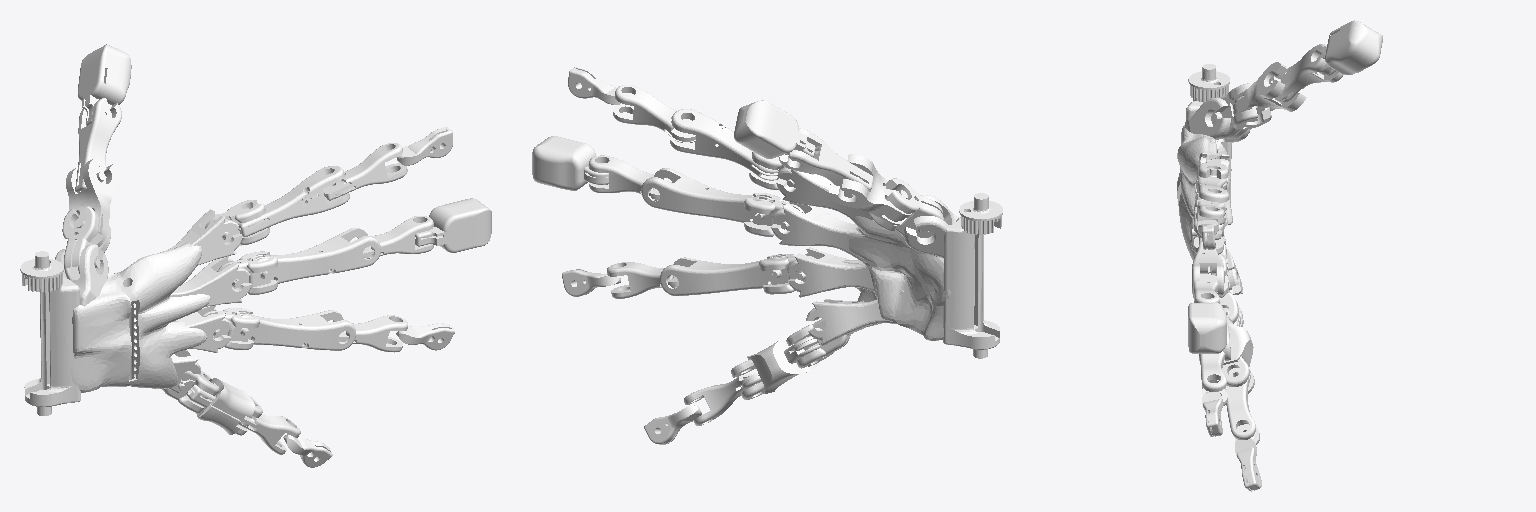
--- Facts derived from the render (not from the file) ---
The picture shows the robot from 3 angles, left to right: view 1: azimuth 30°, elevation 25°; view 2: azimuth 150°, elevation 25°; view 3: azimuth 270°, elevation 25°; orthographic projection.
Robot: converted_robot — 55 links, 54 joints (20 revolute, 34 fixed); root link world; default pose: every joint at zero.
Visible links, largest first — view 1: palm, middle_pp, ring_pp, middle_dp, index_pp, thumb_dp, thumb_pp, pinky_pp, thumb_mp, index_mp, thumb_base, middle_mp (+9 smaller); view 2: palm, middle_pp, ring_pp, thumb_dp, middle_dp, index_pp, pinky_pp, thumb_pp, thumb_mp, index_mp, thumb_base, middle_mp (+9 smaller); view 3: palm, thumb_dp, middle_dp, thumb_pp, thumb_mp, pinky_pp, pinky_mp, thumb_base, ring_mp, middle_pp, pinky_dp, index_pp (+3 smaller).
Link boxes in pixels (x1,y1,x2,y2): palm: (20, 209, 251, 415); middle_pp: (249, 228, 380, 287); ring_pp: (228, 310, 355, 350); middle_dp: (415, 198, 491, 252); index_pp: (238, 166, 349, 236); thumb_dp: (78, 44, 131, 125); thumb_pp: (66, 157, 119, 246); pinky_pp: (186, 378, 262, 435); thumb_mp: (75, 98, 121, 192); index_mp: (323, 143, 407, 200); thumb_base: (62, 206, 110, 280); middle_mp: (363, 216, 433, 258); palm: (771, 167, 1002, 358); middle_pp: (641, 168, 773, 225); ring_pp: (660, 254, 789, 295); thumb_dp: (734, 100, 815, 158); middle_dp: (532, 136, 608, 190); index_pp: (670, 109, 778, 180); pinky_pp: (731, 333, 819, 399); thumb_pp: (828, 154, 911, 224); thumb_mp: (779, 128, 873, 197); index_mp: (613, 85, 695, 142); thumb_base: (869, 178, 943, 237); middle_mp: (589, 155, 672, 200); palm: (1177, 64, 1250, 294); thumb_dp: (1319, 20, 1382, 75); middle_dp: (1188, 301, 1226, 353); thumb_pp: (1231, 62, 1306, 121); thumb_mp: (1269, 44, 1343, 102); pinky_pp: (1222, 308, 1254, 393); pinky_mp: (1225, 368, 1259, 444); thumb_base: (1211, 83, 1271, 138); ring_mp: (1200, 351, 1227, 405); middle_pp: (1192, 229, 1224, 295); pinky_dp: (1235, 438, 1261, 491); index_pp: (1196, 168, 1228, 224).
Bounding box of the posed robot: 0.2196 × 0.0894 × 0.1898 m (x, y, z).
21 mesh visuals loaded from 21 distinct referenced files (21 binary STL).

URDF robot description (converted_robot):
<?xml version="1.0" ?>
<robot name="converted_robot">
   <link name="world">
      <inertial>
         <origin xyz="0.0 0.0 0.0" rpy="0.0 0.0 0.0"/>
         <mass value="0.0"/>
         <inertia ixx="0.0" iyy="0.0" izz="0.0" ixy="0" ixz="0" iyz="0"/>
      </inertial>
   </link>
   <link name="root">
      <inertial>
         <origin xyz="0.0 0.0 0.0" rpy="0.0 0.0 0.0"/>
         <mass value="0.0"/>
         <inertia ixx="0.0" iyy="0.0" izz="0.0" ixy="0" ixz="0" iyz="0"/>
      </inertial>
   </link>
   <link name="world2root_fixed_jointbody">
      <inertial>
         <origin xyz="0.0 0.0 0.0" rpy="0.0 0.0 0.0"/>
         <mass value="0.001"/>
         <inertia ixx="1e-09" iyy="1e-09" izz="1e-09" ixy="0" ixz="0" iyz="0"/>
      </inertial>
   </link>
   <joint type="fixed" name="world2root_fixed">
      <parent link="world"/>
      <child link="world2root_fixed_jointbody"/>
      <origin xyz="0.0 0.0 0.0" rpy="0.0 0.0 0.0"/>
   </joint>
   <joint type="fixed" name="world2root_fixed_offset">
      <parent link="world2root_fixed_jointbody"/>
      <child link="root"/>
      <origin xyz="-0.0 -0.0 -0.0" rpy="0.0 0.0 0.0"/>
   </joint>
   <link name="palm">
      <inertial>
         <origin xyz="0.0031931161538907675 -0.0006744956817974197 -0.015141641629351442" rpy="0.11369803949052038 0.0015109688649919129 1.5487764199118472"/>
         <mass value="0.15922386065672636"/>
         <inertia ixx="0.00012041487596921829" iyy="8.59196043876551e-05" izz="4.1572032560976865e-05" ixy="0" ixz="0" iyz="0"/>
      </inertial>
      <visual name="palm_tower">
         <origin xyz="0.0031931161538907675 -0.0006744956817974197 -0.015141641629351442" rpy="0.11369803949052038 0.001510968864992135 1.5487764199118472"/>
         <geometry>
            <mesh filename="package://viz/models/orca1_hand/urdf/converted_palm_tower.stl"/>
         </geometry>
         <material name="white"/>
      </visual>
   </link>
   <link name="root2palm_fixed_jointbody">
      <inertial>
         <origin xyz="0.0 0.0 0.0" rpy="0.0 0.0 0.0"/>
         <mass value="0.001"/>
         <inertia ixx="1e-09" iyy="1e-09" izz="1e-09" ixy="0" ixz="0" iyz="0"/>
      </inertial>
   </link>
   <joint type="fixed" name="root2palm_fixed">
      <parent link="root"/>
      <child link="root2palm_fixed_jointbody"/>
      <origin xyz="0.193999986406645 -3.686916491009634e-05 0.00199999999999996" rpy="0.0007373833650254783 1.5707963267948966 0.0"/>
   </joint>
   <joint type="fixed" name="root2palm_fixed_offset">
      <parent link="root2palm_fixed_jointbody"/>
      <child link="palm"/>
      <origin xyz="-0.0 -0.0 -0.0" rpy="0.0 0.0 0.0"/>
   </joint>
   <link name="index_um">
      <inertial>
         <origin xyz="0.006732763304155957 4.001088863436687e-09 -2.0258619702217643e-05" rpy="-3.131684616200393 -1.561854856603541 -0.009908433449917098"/>
         <mass value="0.002607186033198995"/>
         <inertia ixx="1.3807074528604164e-07" iyy="1.1778104249469416e-07" izz="6.49217043247213e-08" ixy="0" ixz="0" iyz="0"/>
      </inertial>
      <visual name="index_um">
         <origin xyz="0.006732763304155957 4.001088863436687e-09 -2.0258619702217643e-05" rpy="-3.131684616200393 -1.561854856603541 -0.009908433449916876"/>
         <geometry>
            <mesh filename="package://viz/models/orca1_hand/urdf/converted_index_um.stl"/>
         </geometry>
         <material name="white"/>
      </visual>
   </link>
   <link name="index_abd_jointbody">
      <inertial>
         <origin xyz="0.0 0.0 0.0" rpy="0.0 0.0 0.0"/>
         <mass value="0.001"/>
         <inertia ixx="1e-09" iyy="1e-09" izz="1e-09" ixy="0" ixz="0" iyz="0"/>
      </inertial>
   </link>
   <joint type="revolute" name="index_abd">
      <parent link="palm"/>
      <child link="index_abd_jointbody"/>
      <origin xyz="-0.022026898291690793 0.0015684105070722376 0.035558225043043304" rpy="1.657989451174792 1.3961154673834115 -7.447055134812697e-05"/>
      <axis xyz="-1.80855330711438e-13 -2.220446049250313e-16 0.9999999999999967"/>
      <limit lower="-0.4363323129985824" upper="0.6108652381980153" effort="100" velocity="100"/>
   </joint>
   <joint type="fixed" name="index_abd_offset">
      <parent link="index_abd_jointbody"/>
      <child link="index_um"/>
      <origin xyz="-0.014399999999999979 -1.1275702593849246e-17 -4.7704895589362195e-18" rpy="0.0 0.0 0.0"/>
   </joint>
   <link name="index_pp">
      <inertial>
         <origin xyz="0.001028909009164022 -4.063769783948308e-06 0.02054690935172239" rpy="0.0004528001968630863 -0.017765403380045175 -0.030452017041297512"/>
         <mass value="0.01253208205763138"/>
         <inertia ixx="1.693790150208706e-06" iyy="1.687388366681519e-06" izz="3.6847130608302664e-07" ixy="0" ixz="0" iyz="0"/>
      </inertial>
      <visual name="index_pp">
         <origin xyz="0.001028909009164022 -4.063769783948308e-06 0.02054690935172239" rpy="0.0004528001968630863 -0.017765403380045175 -0.03045201704129752"/>
         <geometry>
            <mesh filename="package://viz/models/orca1_hand/urdf/converted_index_pp.stl"/>
         </geometry>
         <material name="white"/>
      </visual>
   </link>
   <link name="root2index_pp_jointbody">
      <inertial>
         <origin xyz="0.0 0.0 0.0" rpy="0.0 0.0 0.0"/>
         <mass value="0.001"/>
         <inertia ixx="1e-09" iyy="1e-09" izz="1e-09" ixy="0" ixz="0" iyz="0"/>
      </inertial>
   </link>
   <joint type="revolute" name="root2index_pp">
      <parent link="index_um"/>
      <child link="root2index_pp_jointbody"/>
      <origin xyz="-3.726525911802163e-14 1.5826592868386048e-13 -1.3897728001093473e-14" rpy="3.141592653571369 -1.568914097743692 -3.1415926535734324"/>
      <axis xyz="3.175237850427948e-14 -1.0000000000000018 -2.0646956366832114e-12"/>
      <limit lower="-0.17453292519943295" upper="2.007128639793479" effort="100" velocity="100"/>
   </joint>
   <joint type="fixed" name="root2index_pp_offset">
      <parent link="root2index_pp_jointbody"/>
      <child link="index_pp"/>
      <origin xyz="9.357535447968366e-19 9.360525909273759e-18 1.2460153634354755e-17" rpy="0.0 0.0 0.0"/>
   </joint>
   <link name="index_mp">
      <inertial>
         <origin xyz="0.0014457760100068154 8.307526209729058e-05 0.014984285891448386" rpy="0.030434030316509056 -0.009961283507679886 0.10995570955517174"/>
         <mass value="0.007256911934241935"/>
         <inertia ixx="4.939234421836949e-07" iyy="4.903790475873879e-07" izz="1.9645010163470517e-07" ixy="0" ixz="0" iyz="0"/>
      </inertial>
      <visual name="index_mp">
         <origin xyz="0.0014457760100068154 8.307526209729058e-05 0.014984285891448386" rpy="0.030434030316509056 -0.009961283507679886 0.10995570955517174"/>
         <geometry>
            <mesh filename="package://viz/models/orca1_hand/urdf/converted_index_mp.stl"/>
         </geometry>
         <material name="white"/>
      </visual>
   </link>
   <link name="index_pp2mp_jointbody">
      <inertial>
         <origin xyz="0.0 0.0 0.0" rpy="0.0 0.0 0.0"/>
         <mass value="0.001"/>
         <inertia ixx="1e-09" iyy="1e-09" izz="1e-09" ixy="0" ixz="0" iyz="0"/>
      </inertial>
   </link>
   <joint type="revolute" name="index_pp2mp">
      <parent link="index_pp"/>
      <child link="index_pp2mp_jointbody"/>
      <origin xyz="-4.092895317840004e-17 -2.263553056912248e-17 0.039999999999999904" rpy="-1.387778780781445e-17 -2.220446049250313e-16 2.311115933264683e-33"/>
      <axis xyz="1.0547118733938987e-15 -0.9999999999999989 -9.020562075079397e-16"/>
      <limit lower="0.0" upper="2.0943951023931953" effort="100" velocity="100"/>
   </joint>
   <joint type="fixed" name="index_pp2mp_offset">
      <parent link="index_pp2mp_jointbody"/>
      <child link="index_mp"/>
      <origin xyz="1.9461750163187066e-17 3.195966925249782e-17 5.1027793401258624e-17" rpy="0.0 0.0 0.0"/>
   </joint>
   <link name="index_dp">
      <inertial>
         <origin xyz="0.010962775970379684 -0.0009207287499492076 0.007029609248376971" rpy="0.0038044439296488486 0.009595151767842092 1.742992635465892"/>
         <mass value="0.009142007854382036"/>
         <inertia ixx="7.030009842186787e-07" iyy="6.96709959144247e-07" izz="2.9942656232517023e-07" ixy="0" ixz="0" iyz="0"/>
      </inertial>
      <visual name="index_dp">
         <origin xyz="0.010962775970379684 -0.0009207287499492076 0.007029609248376971" rpy="0.0038044439296489596 0.009595151767842092 1.7429926354658922"/>
         <geometry>
            <mesh filename="package://viz/models/orca1_hand/urdf/converted_index_dp.stl"/>
         </geometry>
         <material name="white"/>
      </visual>
   </link>
   <link name="index_mp2dp_jointbody">
      <inertial>
         <origin xyz="0.0 0.0 0.0" rpy="0.0 0.0 0.0"/>
         <mass value="0.001"/>
         <inertia ixx="1e-09" iyy="1e-09" izz="1e-09" ixy="0" ixz="0" iyz="0"/>
      </inertial>
   </link>
   <joint type="revolute" name="index_mp2dp">
      <parent link="index_mp"/>
      <child link="index_mp2dp_jointbody"/>
      <origin xyz="0.0009999999999999601 -4.683753385137379e-17 0.028000000000000004" rpy="-6.661338147750939e-16 8.881784197001252e-16 1.5707963267948974"/>
      <axis xyz="-0.9999999999999998 -1.1796119636642288e-16 -1.946657895643411e-15"/>
      <limit lower="0.0" upper="1.3089969389957472" effort="100" velocity="100"/>
   </joint>
   <joint type="fixed" name="index_mp2dp_offset">
      <parent link="index_mp2dp_jointbody"/>
      <child link="index_dp"/>
      <origin xyz="-0.01099999999999995 7.281470469246501e-06 0.009007281470469294" rpy="0.0 0.0 0.0"/>
   </joint>
   <link name="index_fingertip">
      <inertial>
         <origin xyz="0.0 0.02 -0.001306" rpy="0.0 0.0 0.0"/>
         <mass value="0.0"/>
         <inertia ixx="0.0" iyy="0.0" izz="0.0" ixy="0" ixz="0" iyz="0"/>
      </inertial>
   </link>
   <link name="index_dp2index_fingertip_fixed_jointbody">
      <inertial>
         <origin xyz="0.0 0.0 0.0" rpy="0.0 0.0 0.0"/>
         <mass value="0.001"/>
         <inertia ixx="1e-09" iyy="1e-09" izz="1e-09" ixy="0" ixz="0" iyz="0"/>
      </inertial>
   </link>
   <joint type="fixed" name="index_dp2index_fingertip_fixed">
      <parent link="index_dp"/>
      <child link="index_dp2index_fingertip_fixed_jointbody"/>
      <origin xyz="0.0 0.02 -0.001306" rpy="0.0 0.0 0.0"/>
   </joint>
   <joint type="fixed" name="index_dp2index_fingertip_fixed_offset">
      <parent link="index_dp2index_fingertip_fixed_jointbody"/>
      <child link="index_fingertip"/>
      <origin xyz="-0.0 -0.0 -0.0" rpy="0.0 0.0 0.0"/>
   </joint>
   <link name="pinky_um">
      <inertial>
         <origin xyz="0.006732763304155957 4.001088863436687e-09 -2.0258619702217643e-05" rpy="-3.131684616200393 -1.561854856603541 -0.009908433449917098"/>
         <mass value="0.002607186033198995"/>
         <inertia ixx="1.3807074528604164e-07" iyy="1.1778104249469416e-07" izz="6.49217043247213e-08" ixy="0" ixz="0" iyz="0"/>
      </inertial>
      <visual name="pinky_um">
         <origin xyz="0.006732763304155957 4.001088863436687e-09 -2.0258619702217643e-05" rpy="-3.131684616200393 -1.561854856603541 -0.009908433449916876"/>
         <geometry>
            <mesh filename="package://viz/models/orca1_hand/urdf/converted_pinky_um.stl"/>
         </geometry>
         <material name="white"/>
      </visual>
   </link>
   <link name="pinky_abd_jointbody">
      <inertial>
         <origin xyz="0.0 0.0 0.0" rpy="0.0 0.0 0.0"/>
         <mass value="0.001"/>
         <inertia ixx="1e-09" iyy="1e-09" izz="1e-09" ixy="0" ixz="0" iyz="0"/>
      </inertial>
   </link>
   <joint type="revolute" name="pinky_abd">
      <parent link="palm"/>
      <child link="pinky_abd_jointbody"/>
      <origin xyz="0.04123255613565277 0.005128234212297354 0.015805277968103645" rpy="-1.5799161189708797 0.9071946146015462 -2.8781819803477346"/>
      <axis xyz="-1.942890293094024e-16 6.661338147750939e-16 -1.0000000000000004"/>
      <limit lower="-0.6108652381980153" upper="0.4363323129985824" effort="100" velocity="100"/>
   </joint>
   <joint type="fixed" name="pinky_abd_offset">
      <parent link="pinky_abd_jointbody"/>
      <child link="pinky_um"/>
      <origin xyz="-0.014400000000000012 2.211772431870429e-17 -1.5178830414797062e-17" rpy="0.0 0.0 0.0"/>
   </joint>
   <link name="pinky_pp">
      <inertial>
         <origin xyz="0.0011081239410495802 -6.835791393050442e-07 0.016046375623555865" rpy="0.0013778191143609397 -0.0356616612010936 -0.04982590931331974"/>
         <mass value="0.009193689280540233"/>
         <inertia ixx="8.415561519046092e-07" iyy="8.352213456647945e-07" izz="2.602923288447009e-07" ixy="0" ixz="0" iyz="0"/>
      </inertial>
      <visual name="pinky_pp">
         <origin xyz="0.0011081239410495802 -6.835791393050442e-07 0.016046375623555865" rpy="0.0013778191143609397 -0.0356616612010936 -0.04982590931331974"/>
         <geometry>
            <mesh filename="package://viz/models/orca1_hand/urdf/converted_pinky_pp.stl"/>
         </geometry>
         <material name="white"/>
      </visual>
   </link>
   <link name="root2pinky_pp_jointbody">
      <inertial>
         <origin xyz="0.0 0.0 0.0" rpy="0.0 0.0 0.0"/>
         <mass value="0.001"/>
         <inertia ixx="1e-09" iyy="1e-09" izz="1e-09" ixy="0" ixz="0" iyz="0"/>
      </inertial>
   </link>
   <joint type="revolute" name="root2pinky_pp">
      <parent link="pinky_um"/>
      <child link="root2pinky_pp_jointbody"/>
      <origin xyz="3.525016089636266e-17 -3.1056381288997515e-19 2.7390067716395695e-17" rpy="3.141592653589439 -1.5692446522906773 -3.141592653589439"/>
      <axis xyz="-3.885780586188048e-16 -1.0000000000000004 -2.636779683484747e-16"/>
      <limit lower="-0.17453292519943295" upper="2.007128639793479" effort="100" velocity="100"/>
   </joint>
   <joint type="fixed" name="root2pinky_pp_offset">
      <parent link="root2pinky_pp_jointbody"/>
      <child link="pinky_pp"/>
      <origin xyz="-3.833184058085544e-18 7.922763782835389e-18 1.4973823299787632e-17" rpy="0.0 0.0 0.0"/>
   </joint>
   <link name="pinky_mp">
      <inertial>
         <origin xyz="0.0014457760100068154 8.307526209729058e-05 0.014984285891448386" rpy="0.030434030316509056 -0.009961283507679886 0.10995570955517174"/>
         <mass value="0.007256911934241935"/>
         <inertia ixx="4.939234421836949e-07" iyy="4.903790475873879e-07" izz="1.9645010163470517e-07" ixy="0" ixz="0" iyz="0"/>
      </inertial>
      <visual name="pinky_mp">
         <origin xyz="0.0014457760100068154 8.307526209729058e-05 0.014984285891448386" rpy="0.030434030316509056 -0.009961283507679886 0.10995570955517174"/>
         <geometry>
            <mesh filename="package://viz/models/orca1_hand/urdf/converted_pinky_mp.stl"/>
         </geometry>
         <material name="white"/>
      </visual>
   </link>
   <link name="pinky_pp2mp_jointbody">
      <inertial>
         <origin xyz="0.0 0.0 0.0" rpy="0.0 0.0 0.0"/>
         <mass value="0.001"/>
         <inertia ixx="1e-09" iyy="1e-09" izz="1e-09" ixy="0" ixz="0" iyz="0"/>
      </inertial>
   </link>
   <joint type="revolute" name="pinky_pp2mp">
      <parent link="pinky_pp"/>
      <child link="pinky_pp2mp_jointbody"/>
      <origin xyz="-2.02538279309526e-17 -3.2474578016063654e-17 0.03000000000000008" rpy="-5.551115123125783e-17 0.0 0.0"/>
      <axis xyz="-4.440892098500626e-16 -1.0000000000000004 -8.326672684688674e-17"/>
      <limit lower="0.0" upper="2.0943951023931953" effort="100" velocity="100"/>
   </joint>
   <joint type="fixed" name="pinky_pp2mp_offset">
      <parent link="pinky_pp2mp_jointbody"/>
      <child link="pinky_mp"/>
      <origin xyz="1.171869695207721e-18 -8.725104538385514e-18 -2.4424879789821522e-17" rpy="0.0 0.0 0.0"/>
   </joint>
   <link name="pinky_dp">
      <inertial>
         <origin xyz="0.010962775970379684 -0.0009207287499492076 0.007029609248376971" rpy="0.0038044439296488486 0.009595151767842092 1.742992635465892"/>
         <mass value="0.009142007854382036"/>
         <inertia ixx="7.030009842186787e-07" iyy="6.96709959144247e-07" izz="2.9942656232517023e-07" ixy="0" ixz="0" iyz="0"/>
      </inertial>
      <visual name="pinky_dp">
         <origin xyz="0.010962775970379684 -0.0009207287499492076 0.007029609248376971" rpy="0.0038044439296489596 0.009595151767842092 1.7429926354658922"/>
         <geometry>
            <mesh filename="package://viz/models/orca1_hand/urdf/converted_pinky_dp.stl"/>
         </geometry>
         <material name="white"/>
      </visual>
   </link>
   <link name="pinky_mp2dp_jointbody">
      <inertial>
         <origin xyz="0.0 0.0 0.0" rpy="0.0 0.0 0.0"/>
         <mass value="0.001"/>
         <inertia ixx="1e-09" iyy="1e-09" izz="1e-09" ixy="0" ixz="0" iyz="0"/>
      </inertial>
   </link>
   <joint type="revolute" name="pinky_mp2dp">
      <parent link="pinky_mp"/>
      <child link="pinky_mp2dp_jointbody"/>
      <origin xyz="0.0010000000000103548 -1.148039996401451e-14 0.02799999999999978" rpy="1.7696955012524995e-13 -1.5853984791647235e-13 1.5707963267948981"/>
      <axis xyz="-0.9999999999999996 2.3037127760972e-15 1.584097436557741e-13"/>
      <limit lower="0.0" upper="1.3089969389957472" effort="100" velocity="100"/>
   </joint>
   <joint type="fixed" name="pinky_mp2dp_offset">
      <parent link="pinky_mp2dp_jointbody"/>
      <child link="pinky_dp"/>
      <origin xyz="-0.011000000000000044 7.281470469290411e-06 0.00900728147046922" rpy="0.0 0.0 0.0"/>
   </joint>
   <link name="pinky_fingertip">
      <inertial>
         <origin xyz="0.0 0.02 -0.001306" rpy="0.0 0.0 0.0"/>
         <mass value="0.0"/>
         <inertia ixx="0.0" iyy="0.0" izz="0.0" ixy="0" ixz="0" iyz="0"/>
      </inertial>
   </link>
   <link name="pinky_dp2pinky_fingertip_fixed_jointbody">
      <inertial>
         <origin xyz="0.0 0.0 0.0" rpy="0.0 0.0 0.0"/>
         <mass value="0.001"/>
         <inertia ixx="1e-09" iyy="1e-09" izz="1e-09" ixy="0" ixz="0" iyz="0"/>
      </inertial>
   </link>
   <joint type="fixed" name="pinky_dp2pinky_fingertip_fixed">
      <parent link="pinky_dp"/>
      <child link="pinky_dp2pinky_fingertip_fixed_jointbody"/>
      <origin xyz="0.0 0.02 -0.001306" rpy="0.0 0.0 0.0"/>
   </joint>
   <joint type="fixed" name="pinky_dp2pinky_fingertip_fixed_offset">
      <parent link="pinky_dp2pinky_fingertip_fixed_jointbody"/>
      <child link="pinky_fingertip"/>
      <origin xyz="-0.0 -0.0 -0.0" rpy="0.0 0.0 0.0"/>
   </joint>
   <link name="ring_um">
      <inertial>
         <origin xyz="0.006732763304155957 4.001088863436687e-09 -2.0258619702217643e-05" rpy="-3.131684616200393 -1.561854856603541 -0.009908433449917098"/>
         <mass value="0.002607186033198995"/>
         <inertia ixx="1.3807074528604164e-07" iyy="1.1778104249469416e-07" izz="6.49217043247213e-08" ixy="0" ixz="0" iyz="0"/>
      </inertial>
      <visual name="ring_um">
         <origin xyz="0.006732763304155957 4.001088863436687e-09 -2.0258619702217643e-05" rpy="-3.131684616200393 -1.561854856603541 -0.009908433449916876"/>
         <geometry>
            <mesh filename="package://viz/models/orca1_hand/urdf/converted_ring_um.stl"/>
         </geometry>
         <material name="white"/>
      </visual>
   </link>
   <link name="ring_abd_jointbody">
      <inertial>
         <origin xyz="0.0 0.0 0.0" rpy="0.0 0.0 0.0"/>
         <mass value="0.001"/>
         <inertia ixx="1e-09" iyy="1e-09" izz="1e-09" ixy="0" ixz="0" iyz="0"/>
      </inertial>
   </link>
   <joint type="revolute" name="ring_abd">
      <parent link="palm"/>
      <child link="ring_abd_jointbody"/>
      <origin xyz="0.019694864162417412 0.0013825982229840321 0.030586364349873787" rpy="-1.5707963267948921 1.3088618425821554 -3.054326190990074"/>
      <axis xyz="-8.004708007547379e-14 -1.9984014443252818e-14 0.9999999999999978"/>
      <limit lower="-0.4363323129985824" upper="0.6108652381980153" effort="100" velocity="100"/>
   </joint>
   <joint type="fixed" name="ring_abd_offset">
      <parent link="ring_abd_jointbody"/>
      <child link="ring_um"/>
      <origin xyz="-0.014400000000000029 3.5561831257524545e-17 8.239936510889834e-18" rpy="0.0 0.0 0.0"/>
   </joint>
   <link name="ring_pp">
      <inertial>
         <origin xyz="0.0008060372442654997 -2.635575618623248e-06 0.025309358745536116" rpy="-0.01791413400350872 0.00043408652954268767 1.579449867412698"/>
         <mass value="0.015838995744240178"/>
         <inertia ixx="2.9142748363999414e-06" iyy="2.881065309255171e-06" izz="4.6634203018917616e-07" ixy="0" ixz="0" iyz="0"/>
      </inertial>
      <visual name="ring_pp">
         <origin xyz="0.0008060372442654997 -2.635575618623248e-06 0.025309358745536116" rpy="-0.01791413400350872 0.00043408652954268767 1.579449867412698"/>
         <geometry>
            <mesh filename="package://viz/models/orca1_hand/urdf/converted_ring_pp.stl"/>
         </geometry>
         <material name="white"/>
      </visual>
   </link>
   <link name="root2ring_pp_jointbody">
      <inertial>
         <origin xyz="0.0 0.0 0.0" rpy="0.0 0.0 0.0"/>
         <mass value="0.001"/>
         <inertia ixx="1e-09" iyy="1e-09" izz="1e-09" ixy="0" ixz="0" iyz="0"/>
      </inertial>
   </link>
   <joint type="revolute" name="root2ring_pp">
      <parent link="ring_um"/>
      <child link="root2ring_pp_jointbody"/>
      <origin xyz="8.76421389591046e-16 -6.591883351625457e-14 -5.609920274269105e-15" rpy="3.1415926535778085 -1.5690952335036443 -3.1415926535768572"/>
      <axis xyz="2.1538326677728037e-14 -1.0000000000000016 9.536885170469134e-13"/>
      <limit lower="-0.17453292519943295" upper="2.007128639793479" effort="100" velocity="100"/>
   </joint>
   <joint type="fixed" name="root2ring_pp_offset">
      <parent link="root2ring_pp_jointbody"/>
      <child link="ring_pp"/>
      <origin xyz="-9.795286269233676e-19 -1.4465518891423126e-19 1.4329772049885697e-17" rpy="0.0 0.0 0.0"/>
   </joint>
   <link name="ring_mp">
      <inertial>
         <origin xyz="0.0014457760100068154 8.307526209729058e-05 0.014984285891448386" rpy="0.030434030316509056 -0.009961283507679886 0.10995570955517174"/>
         <mass value="0.007256911934241935"/>
         <inertia ixx="4.939234421836949e-07" iyy="4.903790475873879e-07" izz="1.9645010163470517e-07" ixy="0" ixz="0" iyz="0"/>
      </inertial>
      <visual name="ring_mp">
         <origin xyz="0.0014457760100068154 8.307526209729058e-05 0.014984285891448386" rpy="0.030434030316509056 -0.009961283507679886 0.10995570955517174"/>
         <geometry>
            <mesh filename="package://viz/models/orca1_hand/urdf/converted_ring_mp.stl"/>
         </geometry>
         <material name="white"/>
      </visual>
   </link>
   <link name="ring_pp2mp_jointbody">
      <inertial>
         <origin xyz="0.0 0.0 0.0" rpy="0.0 0.0 0.0"/>
         <mass value="0.001"/>
         <inertia ixx="1e-09" iyy="1e-09" izz="1e-09" ixy="0" ixz="0" iyz="0"/>
      </inertial>
   </link>
   <joint type="revolute" name="ring_pp2mp">
      <parent link="ring_pp"/>
      <child link="ring_pp2mp_jointbody"/>
      <origin xyz="1.6557794334752767e-17 1.0283099349852077e-16 0.048000000000000105" rpy="-8.326672684688684e-17 4.440892098500626e-16 -4.440892098500627e-16"/>
      <axis xyz="5.551115123125783e-17 -0.9999999999999998 1.6514567491299204e-15"/>
      <limit lower="0.0" upper="2.0943951023931953" effort="100" velocity="100"/>
   </joint>
   <joint type="fixed" name="ring_pp2mp_offset">
      <parent link="ring_pp2mp_jointbody"/>
      <child link="ring_mp"/>
      <origin xyz="-2.4797730845642552e-17 -9.545841872561936e-17 -2.5561932479781495e-17" rpy="0.0 0.0 0.0"/>
   </joint>
   <link name="ring_dp">
      <inertial>
         <origin xyz="0.010962775970379684 -0.0009207287499492076 0.007029609248376971" rpy="0.0038044439296488486 0.009595151767842092 1.742992635465892"/>
         <mass value="0.009142007854382036"/>
         <inertia ixx="7.030009842186787e-07" iyy="6.96709959144247e-07" izz="2.9942656232517023e-07" ixy="0" ixz="0" iyz="0"/>
      </inertial>
      <visual name="ring_dp">
         <origin xyz="0.010962775970379684 -0.0009207287499492076 0.007029609248376971" rpy="0.0038044439296489596 0.009595151767842092 1.7429926354658922"/>
         <geometry>
            <mesh filename="package://viz/models/orca1_hand/urdf/converted_ring_dp.stl"/>
         </geometry>
         <material name="white"/>
      </visual>
   </link>
   <link name="ring_mp2dp_jointbody">
      <inertial>
         <origin xyz="0.0 0.0 0.0" rpy="0.0 0.0 0.0"/>
         <mass value="0.001"/>
         <inertia ixx="1e-09" iyy="1e-09" izz="1e-09" ixy="0" ixz="0" iyz="0"/>
      </inertial>
   </link>
   <joint type="revolute" name="ring_mp2dp">
      <parent link="ring_mp"/>
      <child link="ring_mp2dp_jointbody"/>
      <origin xyz="0.0010000000000000247 1.5785983631388945e-16 0.02800000000000006" rpy="-1.4432899320127035e-15 -2.886579864025407e-15 1.570796326794897"/>
      <axis xyz="-1.0000000000000004 9.71445146547012e-17 4.7009379895712744e-15"/>
      <limit lower="0.0" upper="1.3089969389957472" effort="100" velocity="100"/>
   </joint>
   <joint type="fixed" name="ring_mp2dp_offset">
      <parent link="ring_mp2dp_jointbody"/>
      <child link="ring_dp"/>
      <origin xyz="-0.011000000000000136 7.2814704693049395e-06 0.009007281470469263" rpy="0.0 0.0 0.0"/>
   </joint>
   <link name="ring_fingertip">
      <inertial>
         <origin xyz="0.0 0.02 -0.001306" rpy="0.0 0.0 0.0"/>
         <mass value="0.0"/>
         <inertia ixx="0.0" iyy="0.0" izz="0.0" ixy="0" ixz="0" iyz="0"/>
      </inertial>
   </link>
   <link name="ring_dp2ring_fingertip_fixed_jointbody">
      <inertial>
         <origin xyz="0.0 0.0 0.0" rpy="0.0 0.0 0.0"/>
         <mass value="0.001"/>
         <inertia ixx="1e-09" iyy="1e-09" izz="1e-09" ixy="0" ixz="0" iyz="0"/>
      </inertial>
   </link>
   <joint type="fixed" name="ring_dp2ring_fingertip_fixed">
      <parent link="ring_dp"/>
      <child link="ring_dp2ring_fingertip_fixed_jointbody"/>
      <origin xyz="0.0 0.02 -0.001306" rpy="0.0 0.0 0.0"/>
   </joint>
   <joint type="fixed" name="ring_dp2ring_fingertip_fixed_offset">
      <parent link="ring_dp2ring_fingertip_fixed_jointbody"/>
      <child link="ring_fingertip"/>
      <origin xyz="-0.0 -0.0 -0.0" rpy="0.0 0.0 0.0"/>
   </joint>
   <link name="thumb_base">
      <inertial>
         <origin xyz="0.008808869187580644 6.0539790788424805e-05 -6.227108387365731e-07" rpy="1.5867431449904335 -1.5487623466463896 1.5779915757952099"/>
         <mass value="0.004343232157026885"/>
         <inertia ixx="3.2542026380799935e-07" iyy="2.8172270770847253e-07" izz="1.4637236276937704e-07" ixy="0" ixz="0" iyz="0"/>
      </inertial>
      <visual name="thumb_base">
         <origin xyz="0.008808869187580644 6.0539790788424805e-05 -6.227108387365731e-07" rpy="1.5867431449904335 -1.5487623466463896 1.5779915757952099"/>
         <geometry>
            <mesh filename="package://viz/models/orca1_hand/urdf/converted_thumb_base.stl"/>
         </geometry>
         <material name="white"/>
      </visual>
   </link>
   <link name="root2thumb_base_jointbody">
      <inertial>
         <origin xyz="0.0 0.0 0.0" rpy="0.0 0.0 0.0"/>
         <mass value="0.001"/>
         <inertia ixx="1e-09" iyy="1e-09" izz="1e-09" ixy="0" ixz="0" iyz="0"/>
      </inertial>
   </link>
   <joint type="revolute" name="root2thumb_base">
      <parent link="palm"/>
      <child link="root2thumb_base_jointbody"/>
      <origin xyz="-0.01933668556029309 0.007354881795979843 -0.02738447811197526" rpy="-2.2765234291633645 0.5077476451224663 -0.8026267442856543"/>
      <axis xyz="1.1657341758564144e-15 -2.220446049250313e-15 -0.9999999999999962"/>
      <limit lower="-1.3089969389957472" upper="1.3089969389957472" effort="100" velocity="100"/>
   </joint>
   <joint type="fixed" name="root2thumb_base_offset">
      <parent link="root2thumb_base_jointbody"/>
      <child link="thumb_base"/>
      <origin xyz="-0.016900000000000366 -6.505213034913027e-17 -1.8106176280507924e-16" rpy="0.0 0.0 0.0"/>
   </joint>
   <link name="thumb_pp">
      <inertial>
         <origin xyz="0.0110035065603882 1.2140320581283004e-05 4.99089698308662e-06" rpy="1.5801938322395839 -1.3458483295749617 1.5649015598749747"/>
         <mass value="0.005082655147362075"/>
         <inertia ixx="5.315792864935883e-07" iyy="4.848428109529283e-07" izz="1.5884694021631092e-07" ixy="0" ixz="0" iyz="0"/>
      </inertial>
      <visual name="thumb_pp">
         <origin xyz="0.0110035065603882 1.2140320581283004e-05 4.99089698308662e-06" rpy="1.5801938322395845 -1.3458483295749617 1.564901559874974"/>
         <geometry>
            <mesh filename="package://viz/models/orca1_hand/urdf/converted_thumb_pp.stl"/>
         </geometry>
         <material name="white"/>
      </visual>
   </link>
   <link name="thumb_base2pp_jointbody">
      <inertial>
         <origin xyz="0.0 0.0 0.0" rpy="0.0 0.0 0.0"/>
         <mass value="0.001"/>
         <inertia ixx="1e-09" iyy="1e-09" izz="1e-09" ixy="0" ixz="0" iyz="0"/>
      </inertial>
   </link>
   <joint type="revolute" name="thumb_base2pp">
      <parent link="thumb_base"/>
      <child link="thumb_base2pp_jointbody"/>
      <origin xyz="6.696032617270475e-16 1.8030049447620726e-16 1.04077532652539e-16" rpy="2.0071286397934847 -2.4424906541753444e-15 -1.5543122344752192e-15"/>
      <axis xyz="1.0824674490095276e-15 -0.42261826174070033 -0.9063077870366472"/>
      <limit lower="-0.7853981633974483" upper="0.7853981633974483" effort="100" velocity="100"/>
   </joint>
   <joint type="fixed" name="thumb_base2pp_offset">
      <parent link="thumb_base2pp_jointbody"/>
      <child link="thumb_pp"/>
      <origin xyz="-0.023000000000001172 -9.367506770274758e-17 -3.499533562240087e-16" rpy="0.0 0.0 0.0"/>
   </joint>
   <link name="thumb_mp">
      <inertial>
         <origin xyz="0.0008671837157415993 3.6807067201715006e-05 0.014545771273496376" rpy="0.00077585773810393 -0.01657317387693391 0.012834020797146971"/>
         <mass value="0.004591034960824554"/>
         <inertia ixx="5.918485249131172e-07" iyy="5.836019355467322e-07" izz="9.196006074468986e-08" ixy="0" ixz="0" iyz="0"/>
      </inertial>
      <visual name="thumb_mp">
         <origin xyz="0.0008671837157415993 3.6807067201715006e-05 0.014545771273496376" rpy="0.00077585773810393 -0.01657317387693391 0.012834020797146971"/>
         <geometry>
            <mesh filename="package://viz/models/orca1_hand/urdf/converted_thumb_mp.stl"/>
         </geometry>
         <material name="white"/>
      </visual>
   </link>
   <link name="thumb_pp2mp_jointbody">
      <inertial>
         <origin xyz="0.0 0.0 0.0" rpy="0.0 0.0 0.0"/>
         <mass value="0.001"/>
         <inertia ixx="1e-09" iyy="1e-09" izz="1e-09" ixy="0" ixz="0" iyz="0"/>
      </inertial>
   </link>
   <joint type="revolute" name="thumb_pp2mp">
      <parent link="thumb_pp"/>
      <child link="thumb_pp2mp_jointbody"/>
      <origin xyz="1.0061975309744072e-15 1.5763860490676992e-16 6.475155218103694e-16" rpy="3.1415926535897905 1.5707963267948797 0.0"/>
      <axis xyz="-6.8833827526759706e-15 -0.9999999999999959 -7.993605777301127e-15"/>
      <limit lower="-0.17453292519943295" upper="1.5707963267948966" effort="100" velocity="100"/>
   </joint>
   <joint type="fixed" name="thumb_pp2mp_offset">
      <parent link="thumb_pp2mp_jointbody"/>
      <child link="thumb_mp"/>
      <origin xyz="-6.8988979146713415e-18 -2.155793885708645e-17 -2.0127088287987651e-16" rpy="0.0 0.0 0.0"/>
   </joint>
   <link name="thumb_dp">
      <inertial>
         <origin xyz="0.010962775970379684 -0.0009207287499492076 0.007029609248376971" rpy="0.0038044439296488486 0.009595151767842092 1.742992635465892"/>
         <mass value="0.009142007854382036"/>
         <inertia ixx="7.030009842186787e-07" iyy="6.96709959144247e-07" izz="2.9942656232517023e-07" ixy="0" ixz="0" iyz="0"/>
      </inertial>
      <visual name="thumb_dp">
         <origin xyz="0.010962775970379684 -0.0009207287499492076 0.007029609248376971" rpy="0.0038044439296489596 0.009595151767842092 1.7429926354658922"/>
         <geometry>
            <mesh filename="package://viz/models/orca1_hand/urdf/converted_thumb_dp.stl"/>
         </geometry>
         <material name="white"/>
      </visual>
   </link>
   <link name="thumb_mp2dp_jointbody">
      <inertial>
         <origin xyz="0.0 0.0 0.0" rpy="0.0 0.0 0.0"/>
         <mass value="0.001"/>
         <inertia ixx="1e-09" iyy="1e-09" izz="1e-09" ixy="0" ixz="0" iyz="0"/>
      </inertial>
   </link>
   <joint type="revolute" name="thumb_mp2dp">
      <parent link="thumb_mp"/>
      <child link="thumb_mp2dp_jointbody"/>
      <origin xyz="1.8258726914308424e-16 5.204170427930421e-16 0.029999999999999895" rpy="2.4424906541753444e-15 -1.2878587085651816e-14 1.5707963267948923"/>
      <axis xyz="-0.9999999999999958 2.9976021664879227e-15 5.287437154777308e-15"/>
      <limit lower="0.0" upper="1.57" effort="100" velocity="100"/>
   </joint>
   <joint type="fixed" name="thumb_mp2dp_offset">
      <parent link="thumb_mp2dp_jointbody"/>
      <child link="thumb_dp"/>
      <origin xyz="-0.011000000000000175 7.281470469432116e-06 0.009007281470469333" rpy="0.0 0.0 0.0"/>
   </joint>
   <link name="thumb_fingertip">
      <inertial>
         <origin xyz="0.0 0.02425 -0.001189" rpy="0.0 0.0 0.0"/>
         <mass value="0.0"/>
         <inertia ixx="0.0" iyy="0.0" izz="0.0" ixy="0" ixz="0" iyz="0"/>
      </inertial>
   </link>
   <link name="thumb_dp2thumb_fingertip_fixed_jointbody">
      <inertial>
         <origin xyz="0.0 0.0 0.0" rpy="0.0 0.0 0.0"/>
         <mass value="0.001"/>
         <inertia ixx="1e-09" iyy="1e-09" izz="1e-09" ixy="0" ixz="0" iyz="0"/>
      </inertial>
   </link>
   <joint type="fixed" name="thumb_dp2thumb_fingertip_fixed">
      <parent link="thumb_dp"/>
      <child link="thumb_dp2thumb_fingertip_fixed_jointbody"/>
      <origin xyz="0.0 0.02425 -0.001189" rpy="0.0 0.0 0.0"/>
   </joint>
   <joint type="fixed" name="thumb_dp2thumb_fingertip_fixed_offset">
      <parent link="thumb_dp2thumb_fingertip_fixed_jointbody"/>
      <child link="thumb_fingertip"/>
      <origin xyz="-0.0 -0.0 -0.0" rpy="0.0 0.0 0.0"/>
   </joint>
   <link name="middle_um">
      <inertial>
         <origin xyz="0.006732763304155957 4.001088863436687e-09 -2.0258619702217643e-05" rpy="-3.131684616200393 -1.561854856603541 -0.009908433449917098"/>
         <mass value="0.002607186033198995"/>
         <inertia ixx="1.3807074528604164e-07" iyy="1.1778104249469416e-07" izz="6.49217043247213e-08" ixy="0" ixz="0" iyz="0"/>
      </inertial>
      <visual name="middle_um">
         <origin xyz="0.006732763304155957 4.001088863436687e-09 -2.0258619702217643e-05" rpy="-3.131684616200393 -1.561854856603541 -0.009908433449916876"/>
         <geometry>
            <mesh filename="package://viz/models/orca1_hand/urdf/converted_middle_um.stl"/>
         </geometry>
         <material name="white"/>
      </visual>
   </link>
   <link name="middle_abd_jointbody">
      <inertial>
         <origin xyz="0.0 0.0 0.0" rpy="0.0 0.0 0.0"/>
         <mass value="0.001"/>
         <inertia ixx="1e-09" iyy="1e-09" izz="1e-09" ixy="0" ixz="0" iyz="0"/>
      </inertial>
   </link>
   <joint type="revolute" name="middle_abd">
      <parent link="palm"/>
      <child link="middle_abd_jointbody"/>
      <origin xyz="-0.0009621394664390548 2.7740667835757045e-18 0.03895854381555531" rpy="1.5707963267948966 1.5707963267948948 0.0"/>
      <axis xyz="1.3877787807814457e-15 1.1102230246251565e-16 0.9999999999999987"/>
      <limit lower="-0.4363323129985824" upper="0.6108652381980153" effort="100" velocity="100"/>
   </joint>
   <joint type="fixed" name="middle_abd_offset">
      <parent link="middle_abd_jointbody"/>
      <child link="middle_um"/>
      <origin xyz="-0.014400000000000015 -2.0816681711721685e-17 2.0383000842727483e-17" rpy="0.0 0.0 0.0"/>
   </joint>
   <link name="middle_pp">
      <inertial>
         <origin xyz="0.0008060372442654997 -2.635575618623248e-06 0.025309358745536116" rpy="-0.01791413400350872 0.00043408652954268767 1.579449867412698"/>
         <mass value="0.015838995744240178"/>
         <inertia ixx="2.9142748363999414e-06" iyy="2.881065309255171e-06" izz="4.6634203018917616e-07" ixy="0" ixz="0" iyz="0"/>
      </inertial>
      <visual name="middle_pp">
         <origin xyz="0.0008060372442654997 -2.635575618623248e-06 0.025309358745536116" rpy="-0.01791413400350872 0.00043408652954268767 1.579449867412698"/>
         <geometry>
            <mesh filename="package://viz/models/orca1_hand/urdf/converted_middle_pp.stl"/>
         </geometry>
         <material name="white"/>
      </visual>
   </link>
   <link name="root2middle_pp_jointbody">
      <inertial>
         <origin xyz="0.0 0.0 0.0" rpy="0.0 0.0 0.0"/>
         <mass value="0.001"/>
         <inertia ixx="1e-09" iyy="1e-09" izz="1e-09" ixy="0" ixz="0" iyz="0"/>
      </inertial>
   </link>
   <joint type="revolute" name="root2middle_pp">
      <parent link="middle_um"/>
      <child link="root2middle_pp_jointbody"/>
      <origin xyz="-2.7755588056615305e-17 2.7755575615628864e-17 6.638549052222253e-21" rpy="3.141592653589793 -1.5689702811526907 3.141592653589793"/>
      <axis xyz="-1.1102230246251565e-16 -1.0000000000000009 9.75781955236954e-18"/>
      <limit lower="-0.17453292519943295" upper="2.007128639793479" effort="100" velocity="100"/>
   </joint>
   <joint type="fixed" name="root2middle_pp_offset">
      <parent link="root2middle_pp_jointbody"/>
      <child link="middle_pp"/>
      <origin xyz="1.5108221092759517e-20 -9.7018720948507e-33 1.3877779583938463e-17" rpy="0.0 0.0 0.0"/>
   </joint>
   <link name="middle_mp">
      <inertial>
         <origin xyz="0.0014457760100068154 8.307526209729058e-05 0.014984285891448386" rpy="0.030434030316509056 -0.009961283507679886 0.10995570955517174"/>
         <mass value="0.007256911934241935"/>
         <inertia ixx="4.939234421836949e-07" iyy="4.903790475873879e-07" izz="1.9645010163470517e-07" ixy="0" ixz="0" iyz="0"/>
      </inertial>
      <visual name="middle_mp">
         <origin xyz="0.0014457760100068154 8.307526209729058e-05 0.014984285891448386" rpy="0.030434030316509056 -0.009961283507679886 0.10995570955517174"/>
         <geometry>
            <mesh filename="package://viz/models/orca1_hand/urdf/converted_middle_mp.stl"/>
         </geometry>
         <material name="white"/>
      </visual>
   </link>
   <link name="middle_pp2mp_jointbody">
      <inertial>
         <origin xyz="0.0 0.0 0.0" rpy="0.0 0.0 0.0"/>
         <mass value="0.001"/>
         <inertia ixx="1e-09" iyy="1e-09" izz="1e-09" ixy="0" ixz="0" iyz="0"/>
      </inertial>
   </link>
   <joint type="revolute" name="middle_pp2mp">
      <parent link="middle_pp"/>
      <child link="middle_pp2mp_jointbody"/>
      <origin xyz="-1.8151956462261382e-17 -2.3920210430460702e-18 0.048000000000000154" rpy="6.114900252818245e-17 0.0 0.0"/>
      <axis xyz="-1.6653345369377348e-16 -1.0000000000000004 9.75781955236954e-18"/>
      <limit lower="0.0" upper="2.0943951023931953" effort="100" velocity="100"/>
   </joint>
   <joint type="fixed" name="middle_pp2mp_offset">
      <parent link="middle_pp2mp_jointbody"/>
      <child link="middle_mp"/>
      <origin xyz="-6.817933558779142e-17 -6.938893903907302e-18 7.4224300060933e-20" rpy="0.0 0.0 0.0"/>
   </joint>
   <link name="middle_dp">
      <inertial>
         <origin xyz="0.010962775970379684 -0.0009207287499492076 0.007029609248376971" rpy="0.0038044439296488486 0.009595151767842092 1.742992635465892"/>
         <mass value="0.009142007854382036"/>
         <inertia ixx="7.030009842186787e-07" iyy="6.96709959144247e-07" izz="2.9942656232517023e-07" ixy="0" ixz="0" iyz="0"/>
      </inertial>
      <visual name="middle_dp">
         <origin xyz="0.010962775970379684 -0.0009207287499492076 0.007029609248376971" rpy="0.0038044439296489596 0.009595151767842092 1.7429926354658922"/>
         <geometry>
            <mesh filename="package://viz/models/orca1_hand/urdf/converted_middle_dp.stl"/>
         </geometry>
         <material name="white"/>
      </visual>
   </link>
   <link name="middle_mp2dp_jointbody">
      <inertial>
         <origin xyz="0.0 0.0 0.0" rpy="0.0 0.0 0.0"/>
         <mass value="0.001"/>
         <inertia ixx="1e-09" iyy="1e-09" izz="1e-09" ixy="0" ixz="0" iyz="0"/>
      </inertial>
   </link>
   <joint type="revolute" name="middle_mp2dp">
      <parent link="middle_mp"/>
      <child link="middle_mp2dp_jointbody"/>
      <origin xyz="0.0010000000000037676 -2.2551405187698492e-17 0.027999999999999955" rpy="4.551914400963142e-14 -4.440892098500626e-16 1.5707963267948966"/>
      <axis xyz="-1.0000000000000002 -3.2838929933875956e-17 5.315090385248316e-16"/>
      <limit lower="0.0" upper="1.3089969389957472" effort="100" velocity="100"/>
   </joint>
   <joint type="fixed" name="middle_mp2dp_offset">
      <parent link="middle_mp2dp_jointbody"/>
      <child link="middle_dp"/>
      <origin xyz="-0.011000000000000034 7.28147046937894e-06 0.009007281470469267" rpy="0.0 0.0 0.0"/>
   </joint>
   <link name="middle_fingertip">
      <inertial>
         <origin xyz="0.0 0.02 -0.001306" rpy="0.0 0.0 0.0"/>
         <mass value="0.0"/>
         <inertia ixx="0.0" iyy="0.0" izz="0.0" ixy="0" ixz="0" iyz="0"/>
      </inertial>
   </link>
   <link name="middle_dp2middle_fingertip_fixed_jointbody">
      <inertial>
         <origin xyz="0.0 0.0 0.0" rpy="0.0 0.0 0.0"/>
         <mass value="0.001"/>
         <inertia ixx="1e-09" iyy="1e-09" izz="1e-09" ixy="0" ixz="0" iyz="0"/>
      </inertial>
   </link>
   <joint type="fixed" name="middle_dp2middle_fingertip_fixed">
      <parent link="middle_dp"/>
      <child link="middle_dp2middle_fingertip_fixed_jointbody"/>
      <origin xyz="0.0 0.02 -0.001306" rpy="0.0 0.0 0.0"/>
   </joint>
   <joint type="fixed" name="middle_dp2middle_fingertip_fixed_offset">
      <parent link="middle_dp2middle_fingertip_fixed_jointbody"/>
      <child link="middle_fingertip"/>
      <origin xyz="-0.0 -0.0 -0.0" rpy="0.0 0.0 0.0"/>
   </joint>
   <material name="white">
      <color rgba="1 1 1 1"/>
   </material>
</robot>
